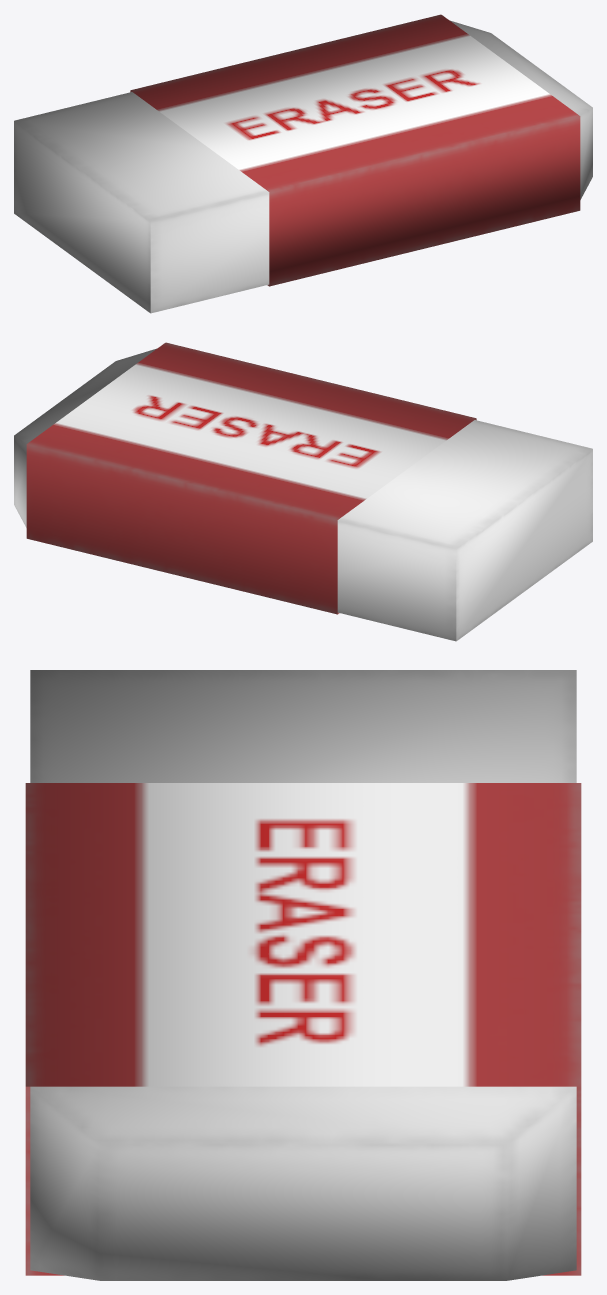
The model's file is Eraser.gltf.
The picture shows the model from 3 angles, top to bottom: view 1: azimuth 30°, elevation 25°; view 2: azimuth 150°, elevation 25°; view 3: azimuth 270°, elevation 25°; orthographic projection. The views are drawn at different scales.
Parts seen in each view (by area): view 1: node-0; view 2: node-0; view 3: node-0.
Part boxes in pixels (x1,y1,x2,y2): node-0: (14,14,592,313); node-0: (14,342,592,641); node-0: (25,670,581,1280).
Size of the model in its own units: 0.0775 by 0.0152 by 0.0406.
1 material, 1 textured.
